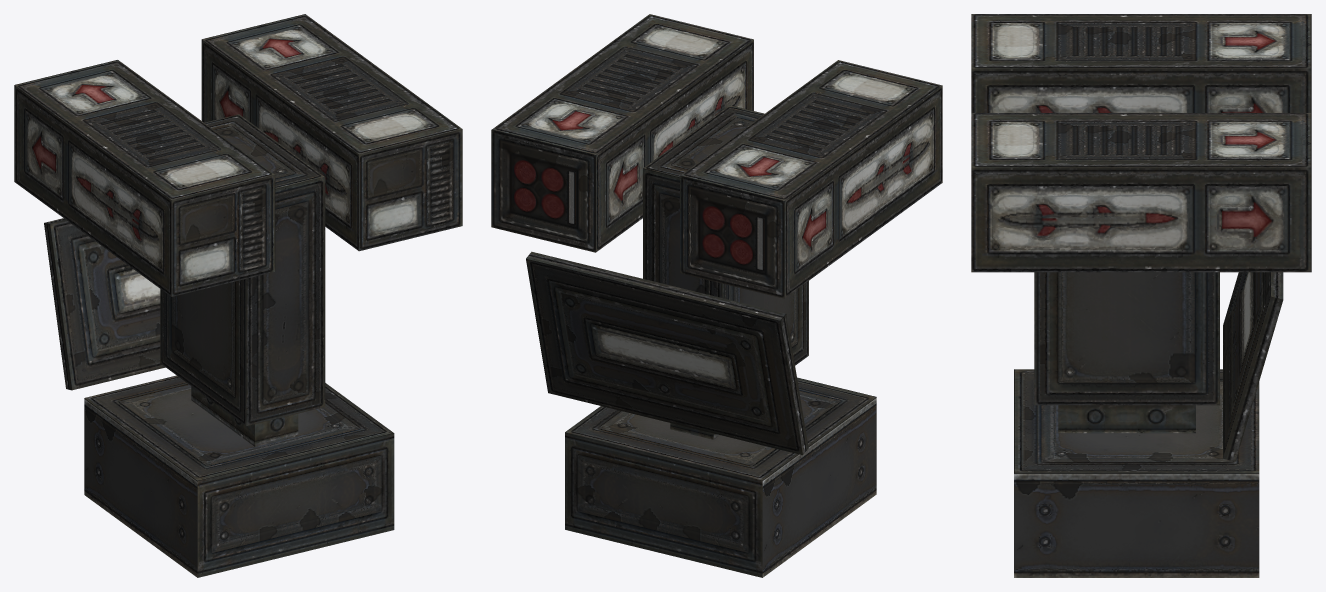
The model's file is MOBILE_TURRET_PACK_1_ROCKETLAUNCHER.FBX.
The picture shows the model from 3 angles, left to right: view 1: azimuth 30°, elevation 25°; view 2: azimuth 150°, elevation 25°; view 3: azimuth 270°, elevation 25°; orthographic projection. The views are drawn at different scales.
Parts seen in each view (by area): view 1: Turret_Rocket_Launcher; view 2: Turret_Rocket_Launcher; view 3: Turret_Rocket_Launcher.
Part boxes in pixels (x1,y1,x2,y2): Turret_Rocket_Launcher: (14, 14, 462, 577); Turret_Rocket_Launcher: (491, 14, 942, 577); Turret_Rocket_Launcher: (971, 14, 1311, 577).
Bounding box in the file's own units: 37.57 × 49.75 × 35.17.
